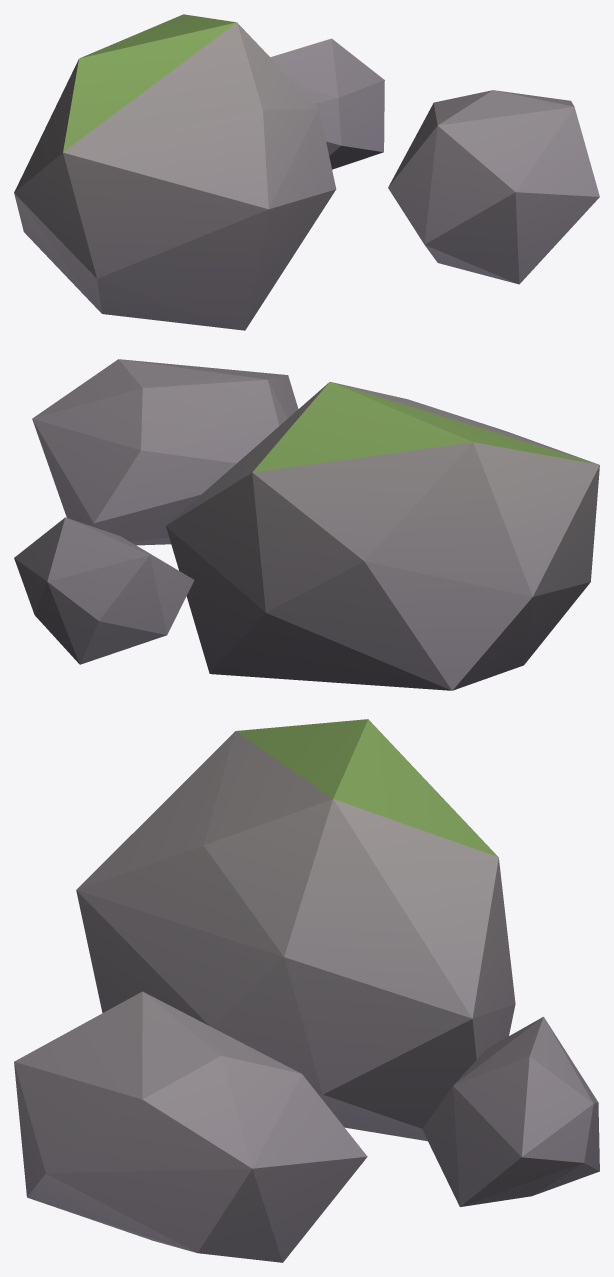
The model's file is rock_d.glb.
3 views of the same model, one above another, from view 1: azimuth 30°, elevation 25°; view 2: azimuth 150°, elevation 25°; view 3: azimuth 270°, elevation 25° (orthographic). The views are drawn at different scales.
Visible parts, largest first — view 1: rock_d; view 2: rock_d; view 3: rock_d.
Part boxes in pixels (bbox=[...]): rock_d: bbox=[14, 14, 599, 330]; rock_d: bbox=[14, 359, 599, 690]; rock_d: bbox=[14, 719, 599, 1262].
Size of the model in its own units: 1.34 by 0.5949 by 0.9951.
